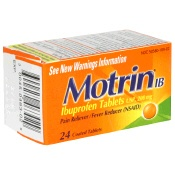grozi_18: (3, 30, 172, 145)
